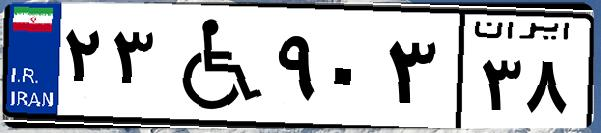0: (330, 28, 385, 110)
2: (57, 26, 110, 100)
3: (385, 28, 445, 110), (475, 38, 525, 113), (110, 28, 158, 98)
8: (525, 38, 570, 115)
9: (270, 28, 330, 110)
ژ (معلولین و جانبازان): (158, 12, 270, 120)
